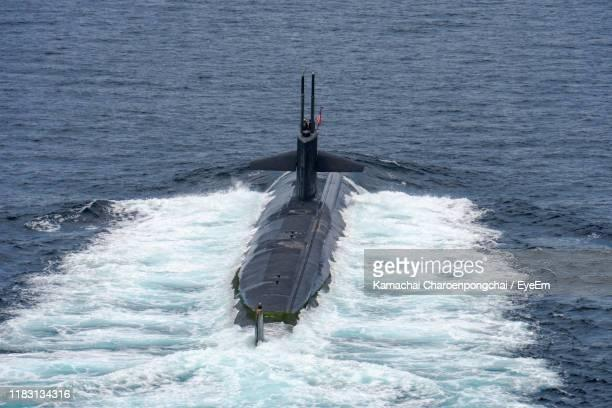Submarine: (118, 29, 368, 369)
